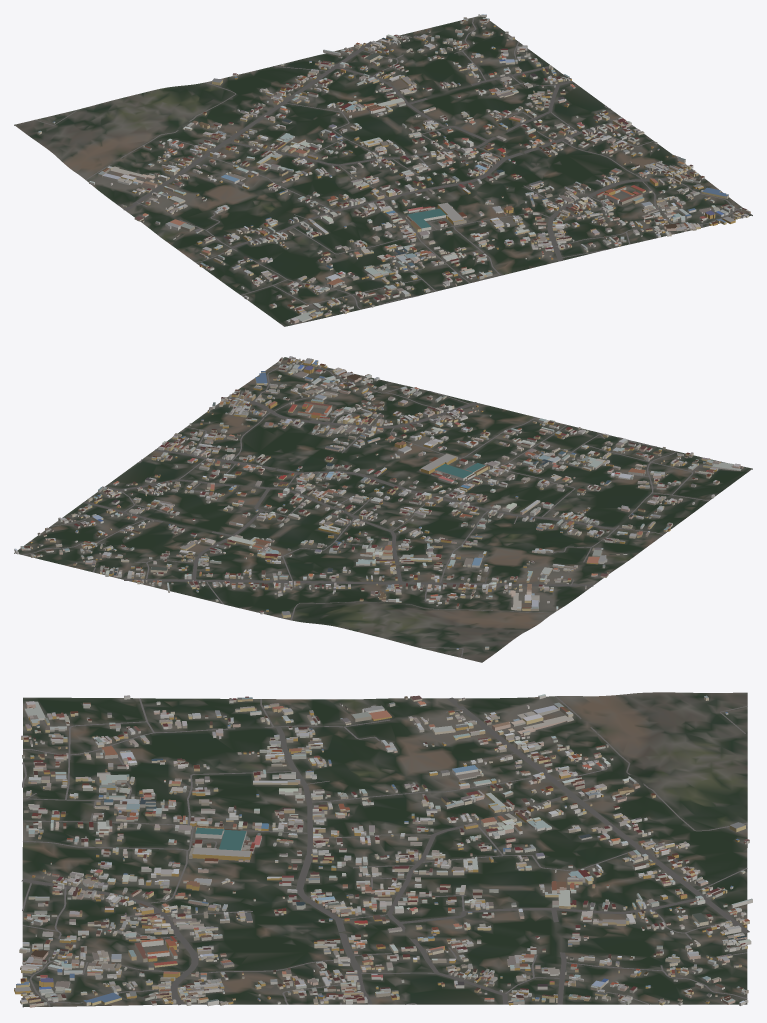
3 renders of one model, top to bottom at view 1: azimuth 30°, elevation 25°; view 2: azimuth 150°, elevation 25°; view 3: azimuth 270°, elevation 25°, orthographic. The views are drawn at different scales.
Visible parts, largest first — view 1: ground, buildings, roads; view 2: ground, buildings, roads; view 3: ground, buildings, roads.
Boxes of the visible parts, bbox=[...] form: ground: bbox=[14, 16, 752, 326]; buildings: bbox=[37, 14, 750, 323]; roads: bbox=[34, 17, 742, 312]; ground: bbox=[14, 357, 752, 662]; buildings: bbox=[14, 356, 743, 649]; roads: bbox=[23, 364, 708, 657]; ground: bbox=[22, 692, 747, 1007]; buildings: bbox=[14, 694, 752, 1007]; roads: bbox=[21, 696, 749, 1006].
Size of the model in its own units: 1411 by 27.22 by 1428.
